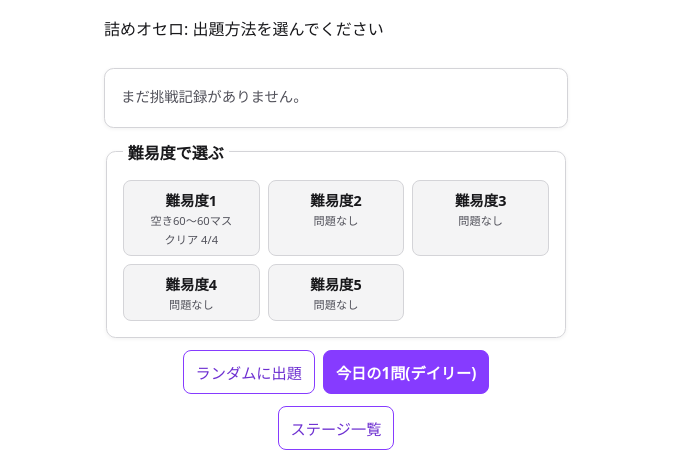
T130: 詰めオセロステージ一覧の復習フィルタ › 該当0件のとき、グリッドの代わりに空表示メッセージを出す
The image size is (673, 467).
Click the button "ステージ一覧" at (336, 428), box [278,406,394,450]
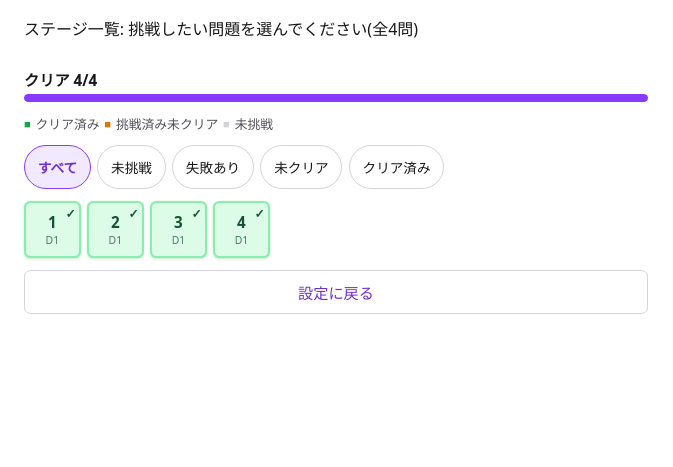
Check: the element with class "tsume-stage-select" is shown
Check: the button with class "tsume-stage-select__filter-button" showing "未挑戦" is shown
Click the button with class "tsume-stage-select__filter-button" showing "未挑戦" at (132, 167), box [97,145,166,189]
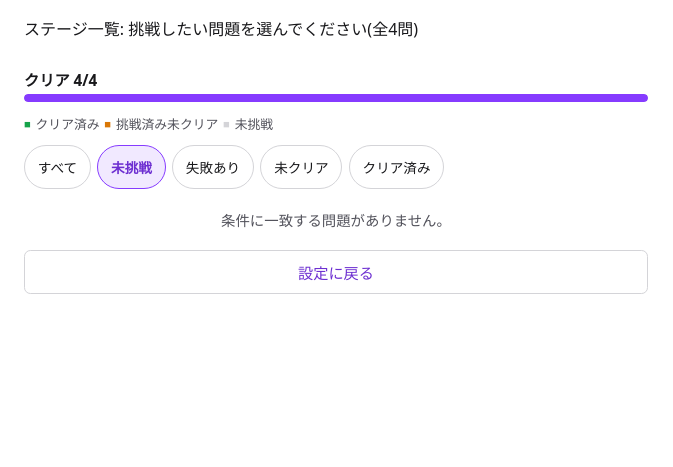
Check: the element with class "tsume-stage-grid" is gone
Check: the text with class "tsume-stage-select__empty" shows "条件に一致する問題がありません", box [221,211,451,230]
